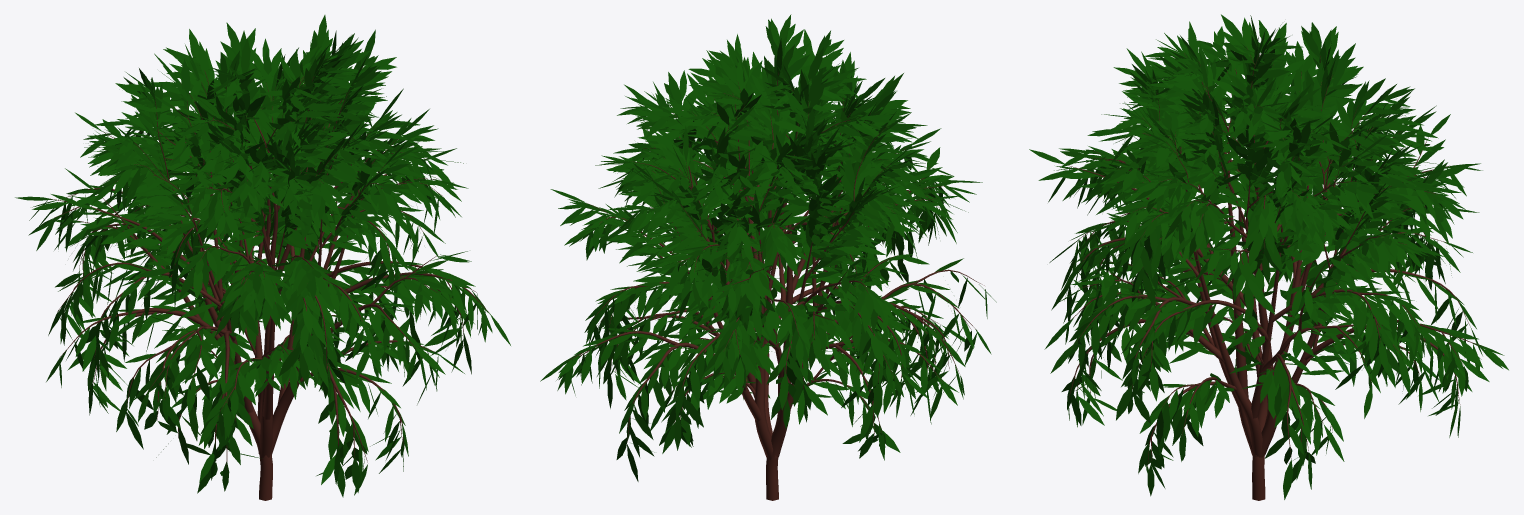
The model's file is arbol1unity 2.fbx.
The picture shows the model from 3 angles, left to right: view 1: azimuth 30°, elevation 25°; view 2: azimuth 150°, elevation 25°; view 3: azimuth 270°, elevation 25°; orthographic projection. The views are drawn at different scales.
Parts seen in each view (by area): view 1: leaves, tree; view 2: leaves, tree; view 3: leaves, tree.
Boxes of the visible parts, box(x1,y1,x2,y2) form: leaves: box(15, 15, 510, 497); tree: box(50, 58, 489, 500); leaves: box(540, 14, 996, 481); tree: box(568, 72, 984, 500); leaves: box(1029, 14, 1508, 499); tree: box(1067, 46, 1482, 500).
Bounding box in the file's own units: 589 × 686 × 632.
